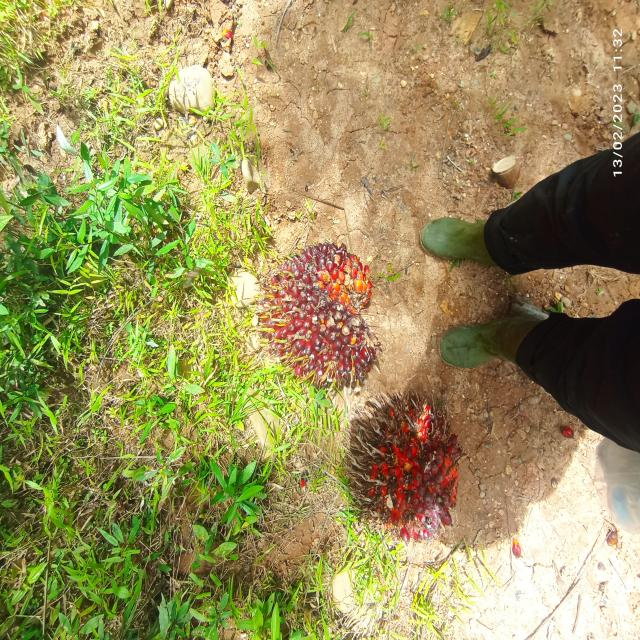fraksi 1: (232, 188, 411, 418)
fraksi 4: (351, 388, 467, 561)
